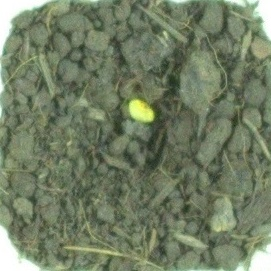chilli seed: (127, 97, 157, 125)
